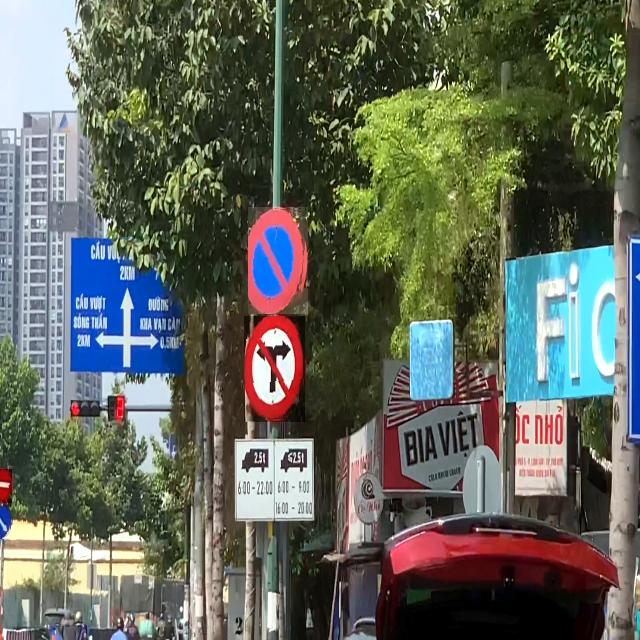21: (248, 207, 308, 314)
22: (244, 316, 305, 422)
27: (0, 503, 11, 539)
bien_chi_dan: (0, 469, 12, 504)
